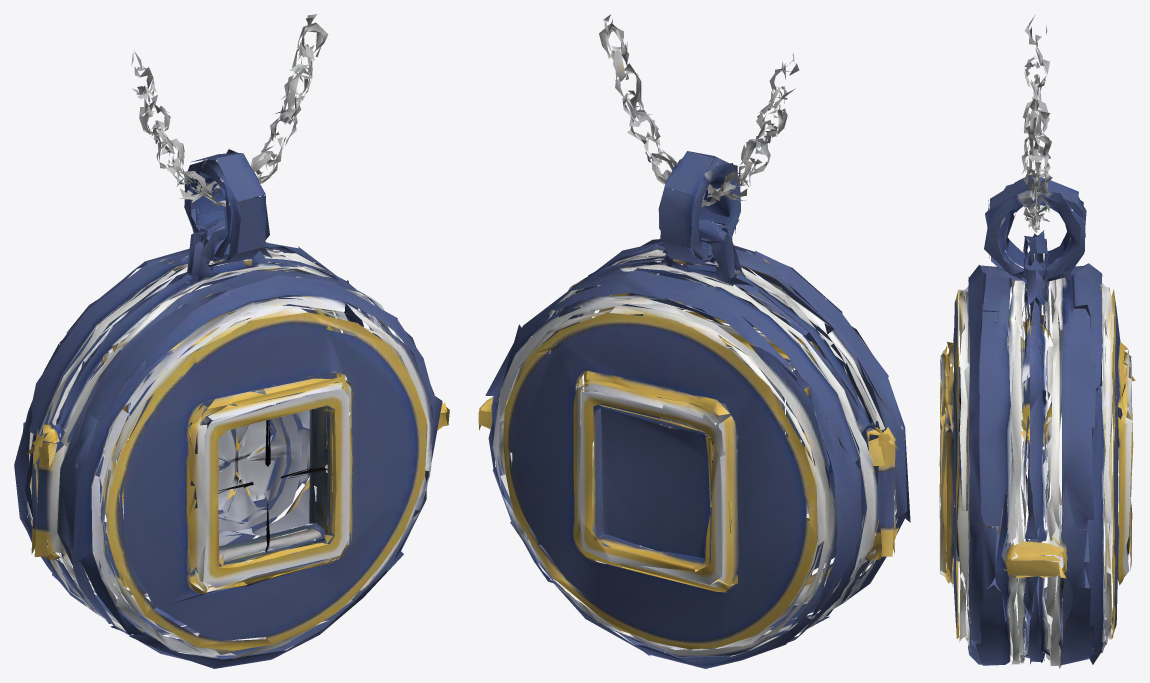
Rendered from gear_geometry_necklace.glb.
The picture shows the model from 3 angles, left to right: view 1: azimuth 30°, elevation 25°; view 2: azimuth 150°, elevation 25°; view 3: azimuth 270°, elevation 25°; orthographic projection. The views are drawn at different scales.
Parts seen in each view (by area): view 1: gear_geometry_necklace; view 2: gear_geometry_necklace; view 3: gear_geometry_necklace.
Boxes of the visible parts, box(x1,y1,x2,y2) form: gear_geometry_necklace: box(14, 14, 449, 668); gear_geometry_necklace: box(478, 14, 910, 668); gear_geometry_necklace: box(939, 14, 1135, 668).
Size of the model in its own units: 0.346 by 0.5037 by 0.1516.
Materials: 1 (1 with a texture image).
